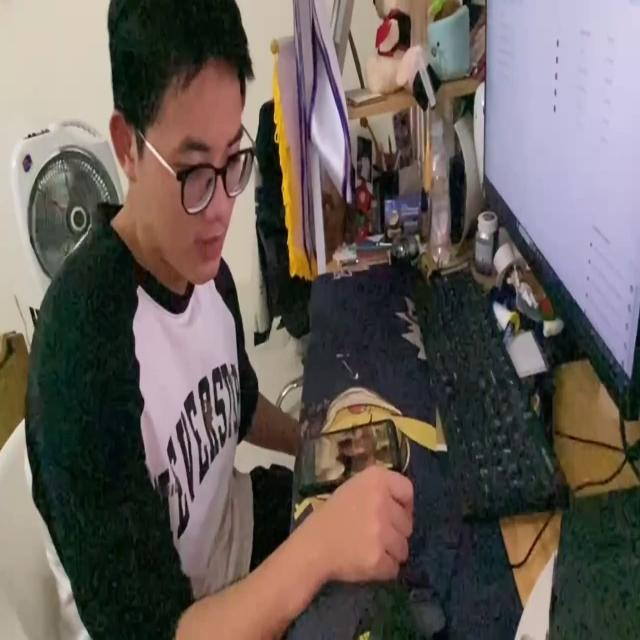laptop: (481, 0, 640, 419)
phone: (295, 419, 402, 490)
student: (16, 0, 413, 640)
